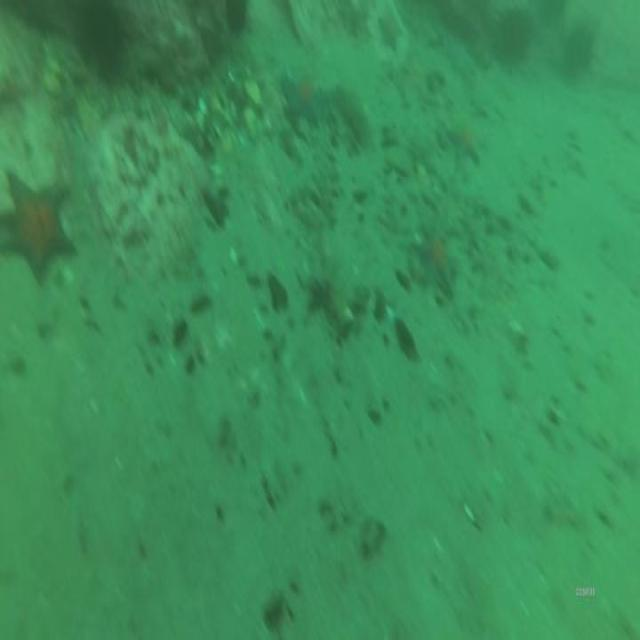echinus: (491, 0, 534, 79), (560, 17, 596, 79), (221, 0, 250, 44)
holothurian: (308, 123, 342, 231), (326, 82, 374, 153)
starfish: (0, 167, 80, 291), (409, 222, 462, 304), (277, 63, 327, 133), (442, 115, 484, 177), (0, 68, 33, 117), (377, 8, 404, 54)
